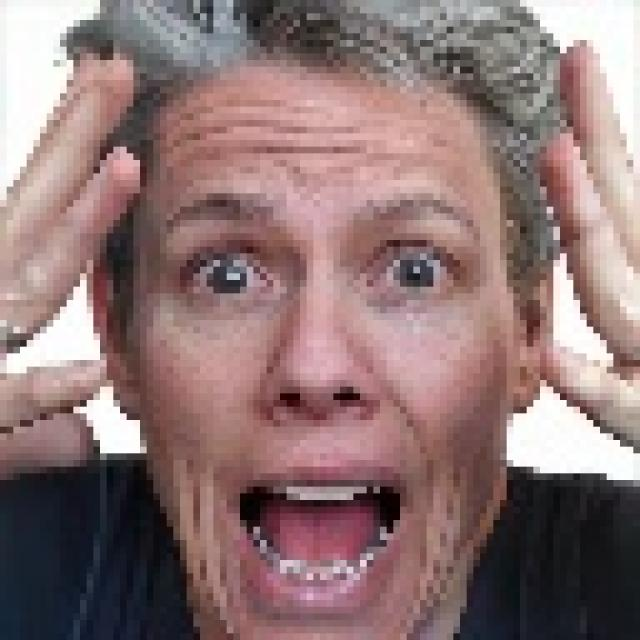angry: (99, 50, 553, 640)
